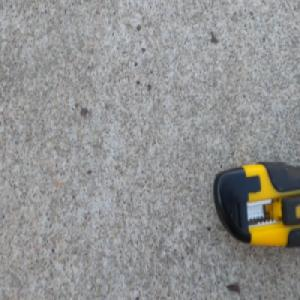Cutter: (212, 160, 300, 248)
